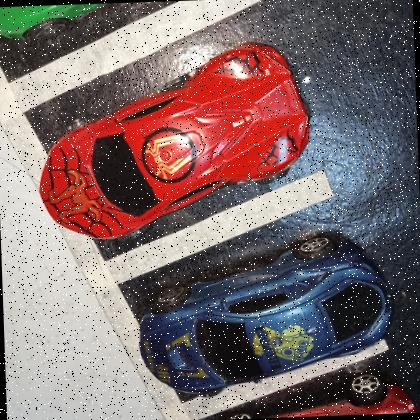Car: (38, 40, 311, 239), (136, 236, 392, 395)
